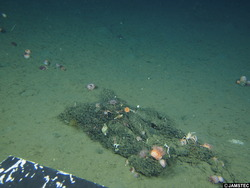fishing net: (56, 85, 214, 177)
